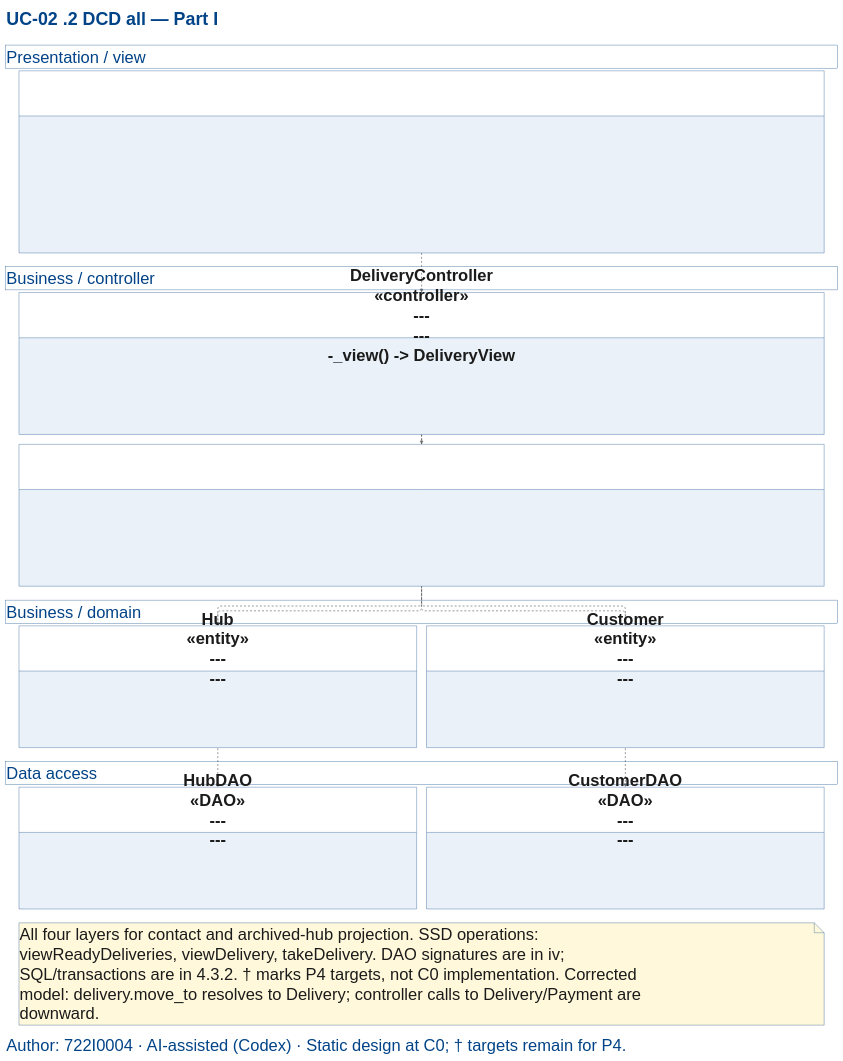
The diagram is 843 pixels wide and 1061 high, and some of its shapes have lost their labels. The shapes that lost their labels are listed below. From the top down, each one's centre as x and y in pixels, then its label:
[421,161]: delivery «view» --- --- +detail() * +board() * +pick_up() *
[421,515]: DeliveryView «value» --- --- +cash_to_collect: int
